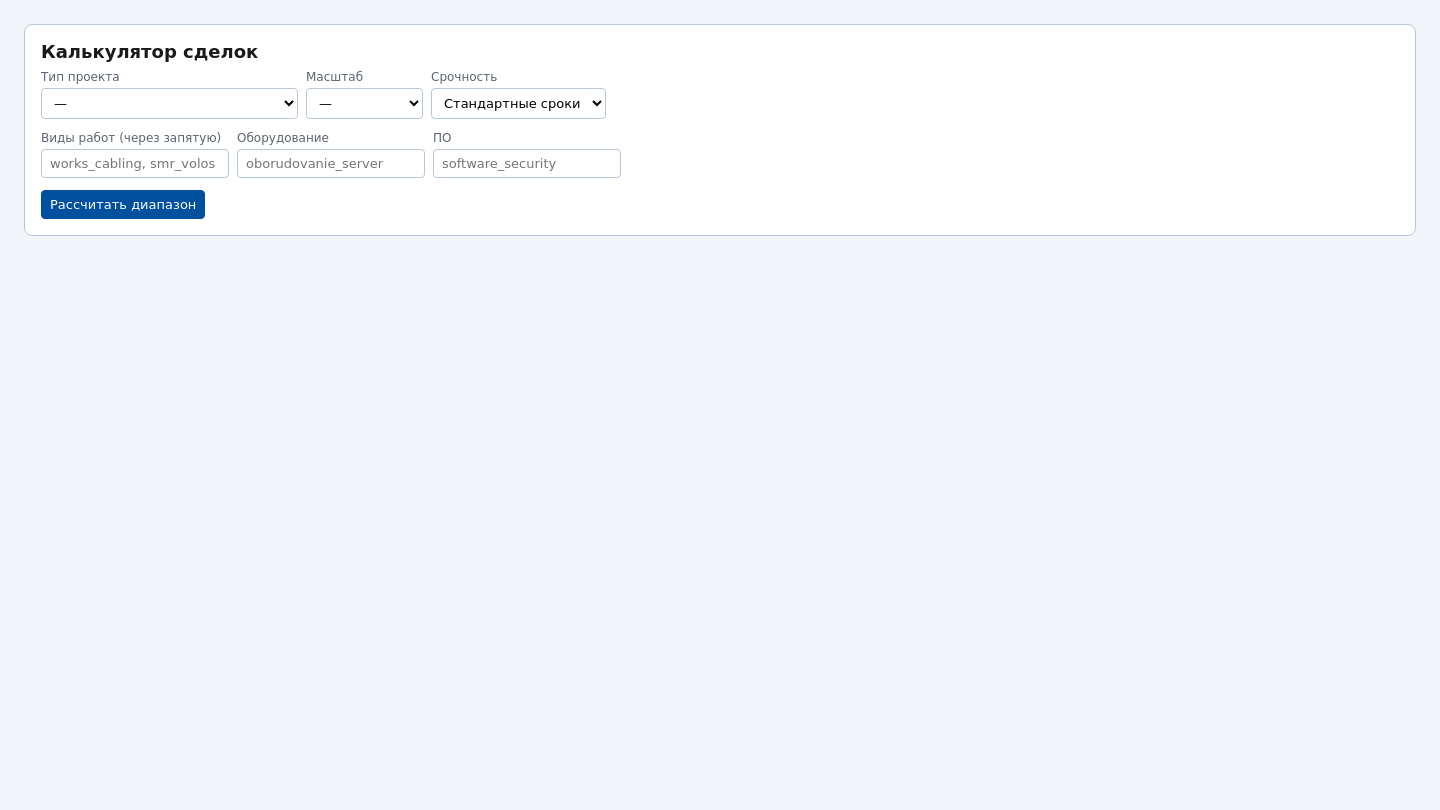
форма калькулятора › отправляет форму и показывает вилку, аналоги и предупреждение
Select "Связь и каналы" in the dropdown labelled "Тип проекта": coordinates (170, 104) [41,88,298,119]
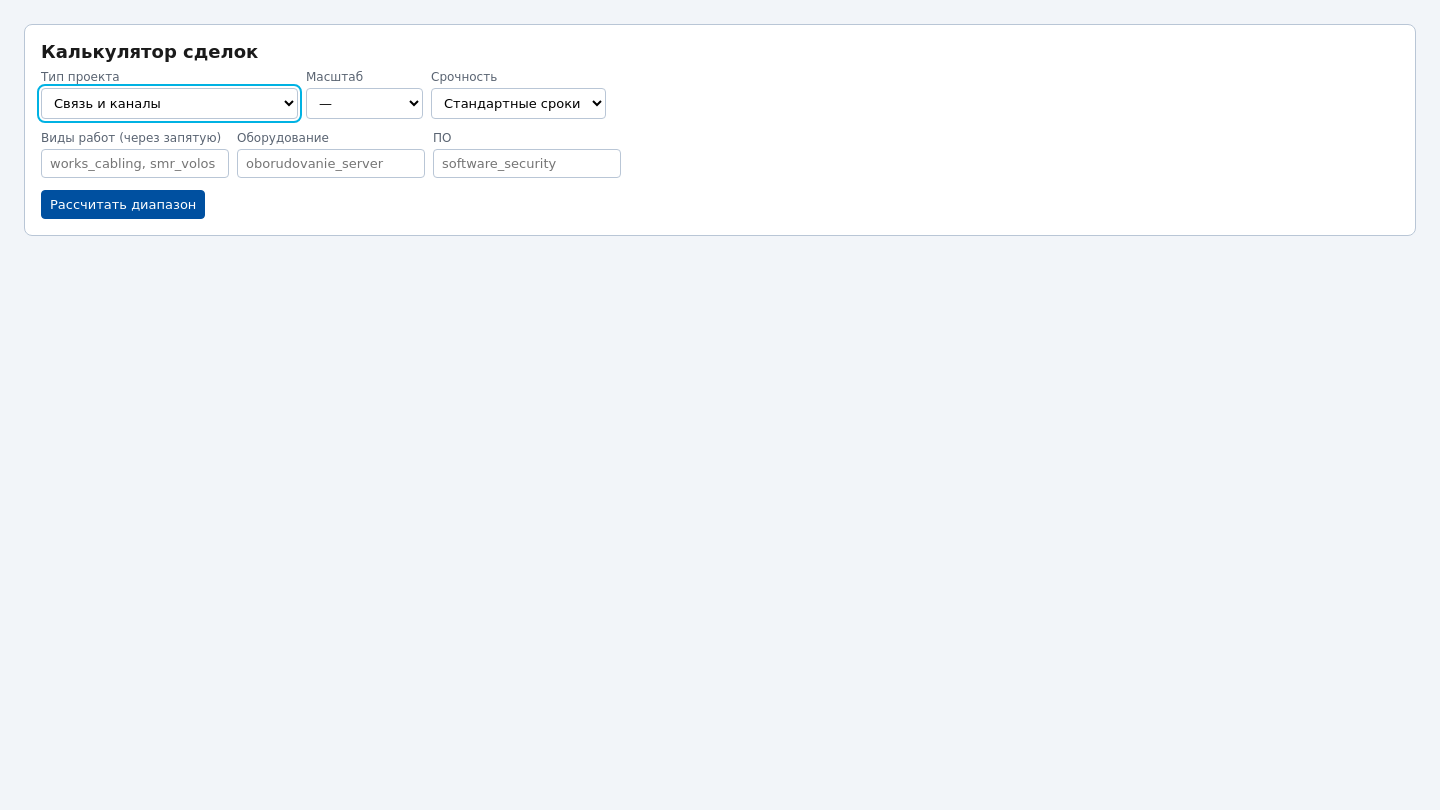
Select "Средний" in the dropdown labelled "Масштаб": coordinates (364, 104) [306,88,423,119]
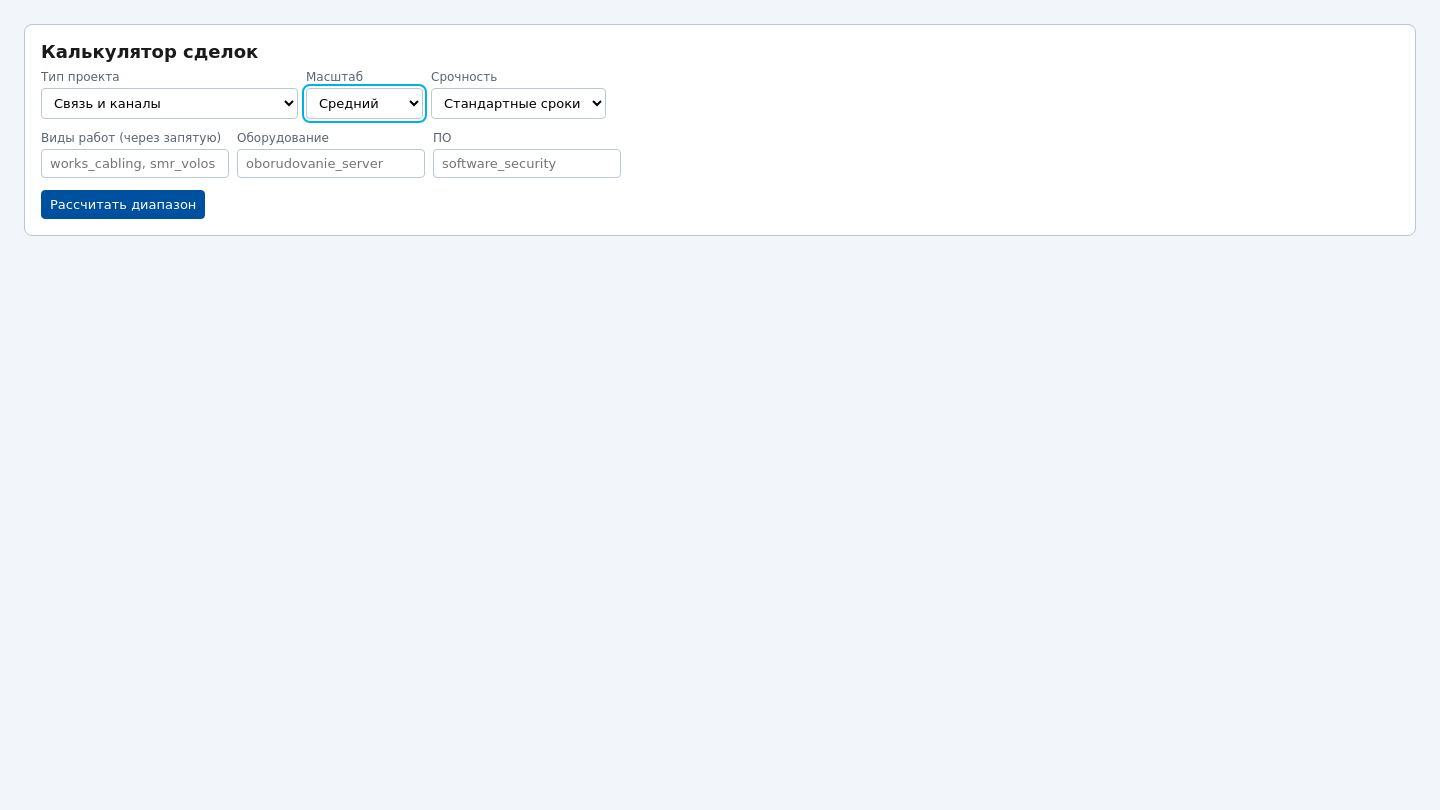
Click the button "Рассчитать диапазон": coordinates (123, 204) [41,190,205,219]
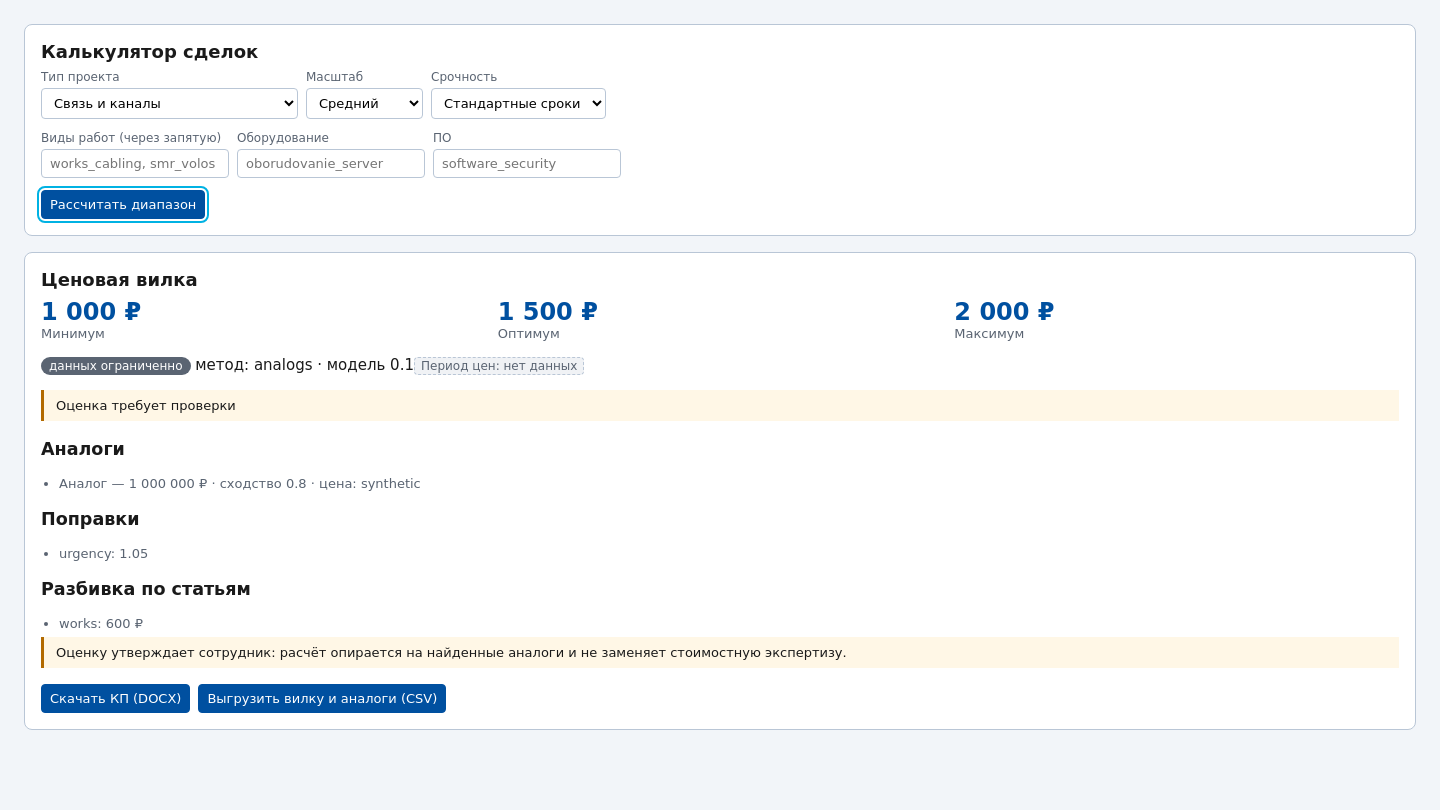
Expected: the heading "Ценовая вилка" is shown, [41,269,198,290]
Expected: the text "Оценка требует проверки" is shown, [41,390,1399,421]
